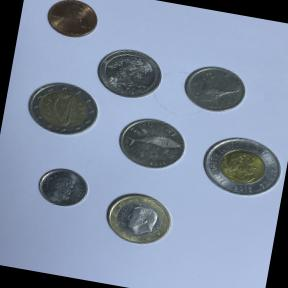1 Euro-B: (98, 184, 178, 252)
2 Euro-B: (17, 74, 104, 142)
Canada-10cent-B: (30, 158, 94, 216)
Canada-2Dollar-B: (192, 124, 288, 204)
Croatia-2Kune-B: (110, 110, 190, 176)
US-1cent-B: (40, 0, 103, 44)
US-25cent-B: (90, 42, 168, 104)
